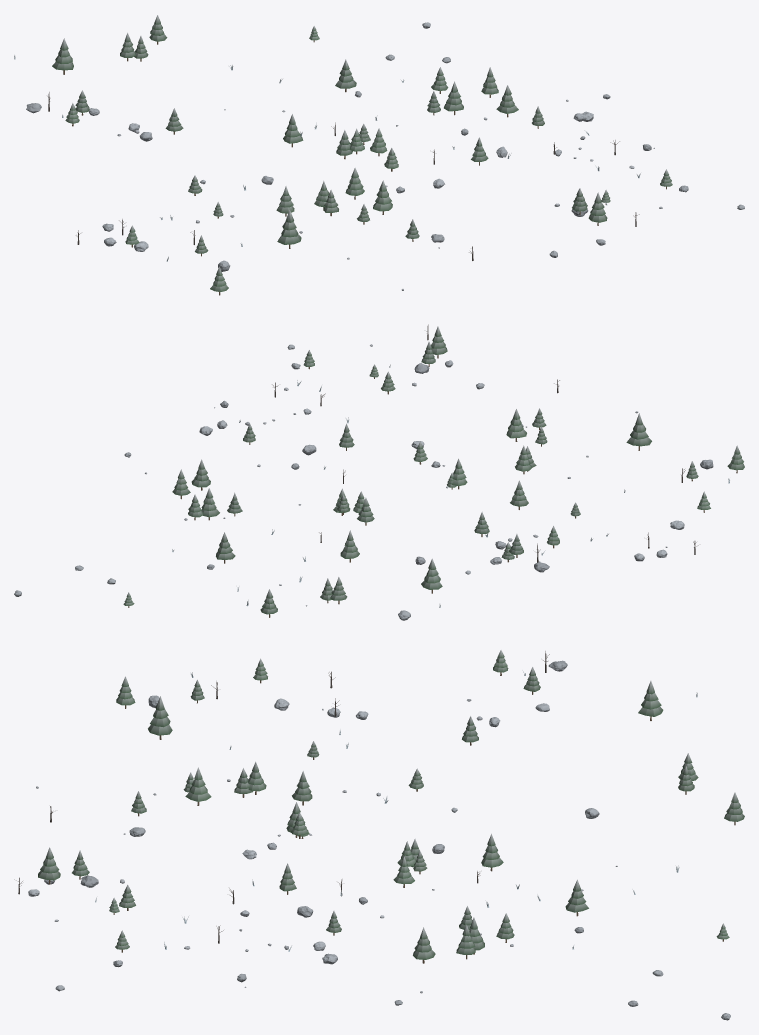
The model's file is frost_land_scatter_c17_10.glb.
The picture shows the model from 3 angles, top to bottom: view 1: azimuth 30°, elevation 25°; view 2: azimuth 150°, elevation 25°; view 3: azimuth 270°, elevation 25°; orthographic projection. The views are drawn at different scales.
Parts seen in each view (by area): view 1: frost_land_scatter_c17_10; view 2: frost_land_scatter_c17_10; view 3: frost_land_scatter_c17_10.
Part boxes in pixels (x1,y1,x2,y2): frost_land_scatter_c17_10: (14,15,744,295); frost_land_scatter_c17_10: (14,324,744,620); frost_land_scatter_c17_10: (14,650,744,1020).
Size of the model in its own units: 255 by 48.12 by 256.
